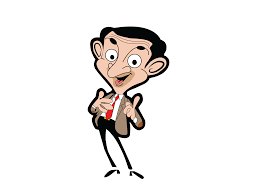mrbean: (82, 22, 172, 188)
